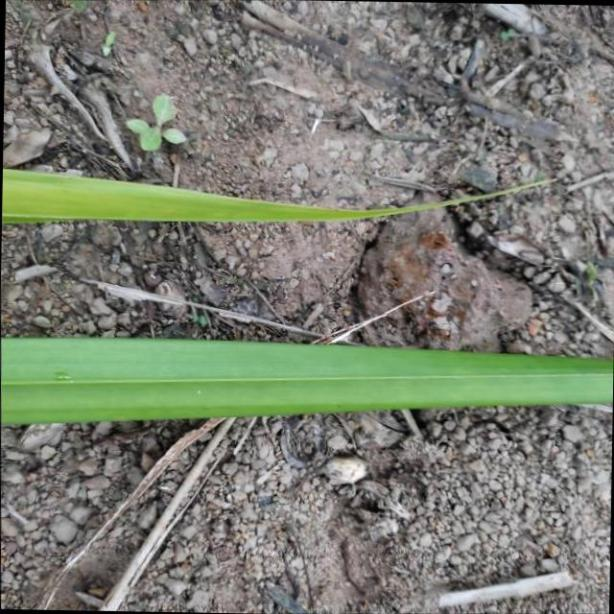nitrogen: (0, 331, 614, 428), (3, 166, 600, 227)
